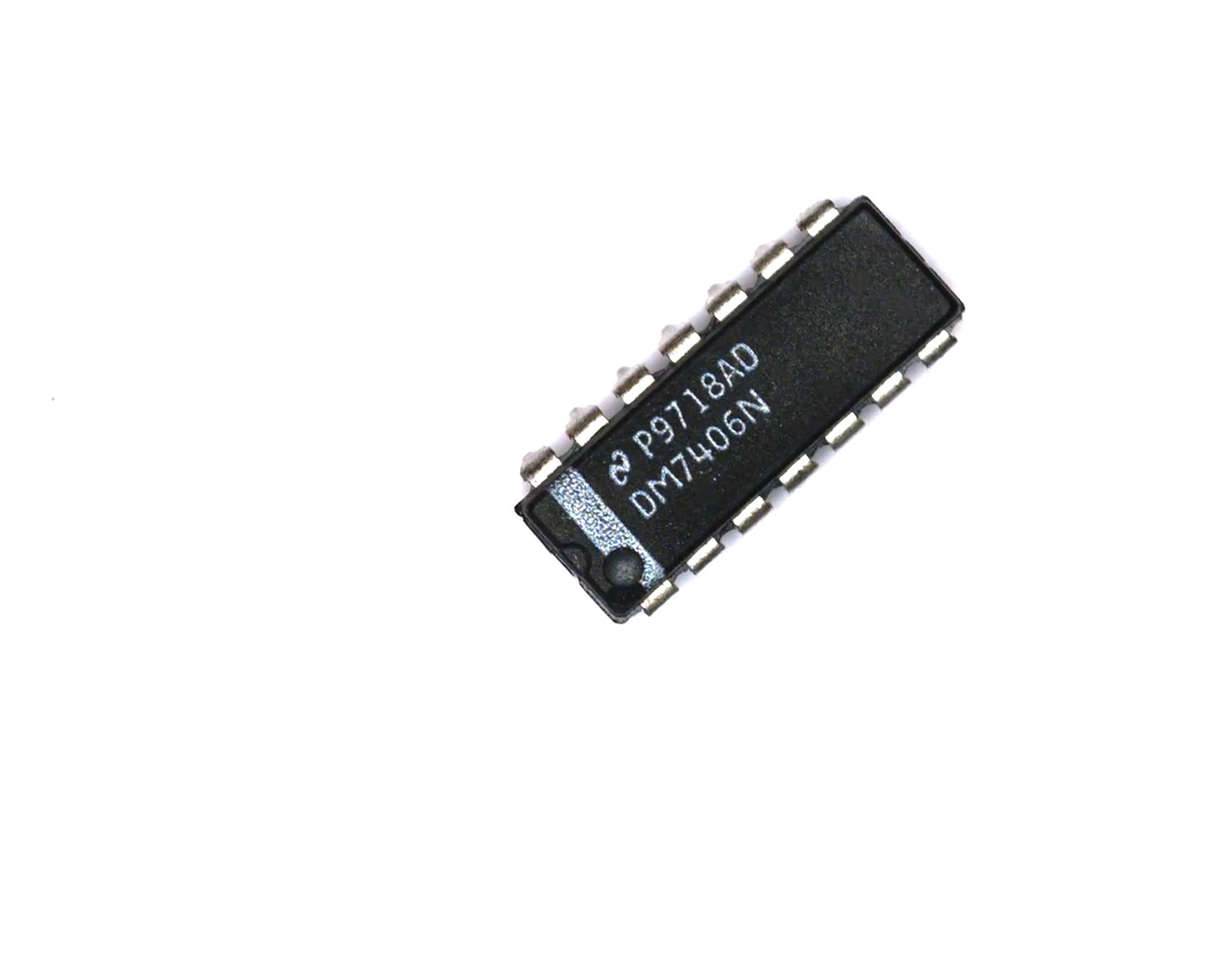IC: (476, 167, 1002, 660)
notch: (553, 536, 598, 584)
